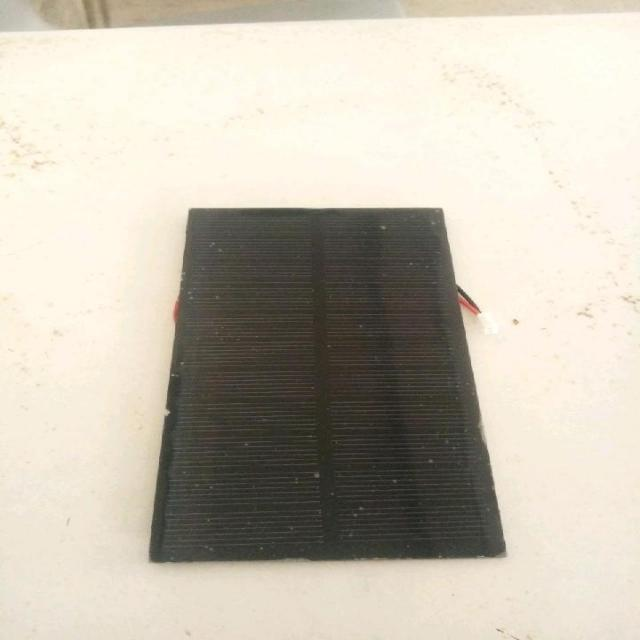no faulty: (162, 214, 476, 574)
